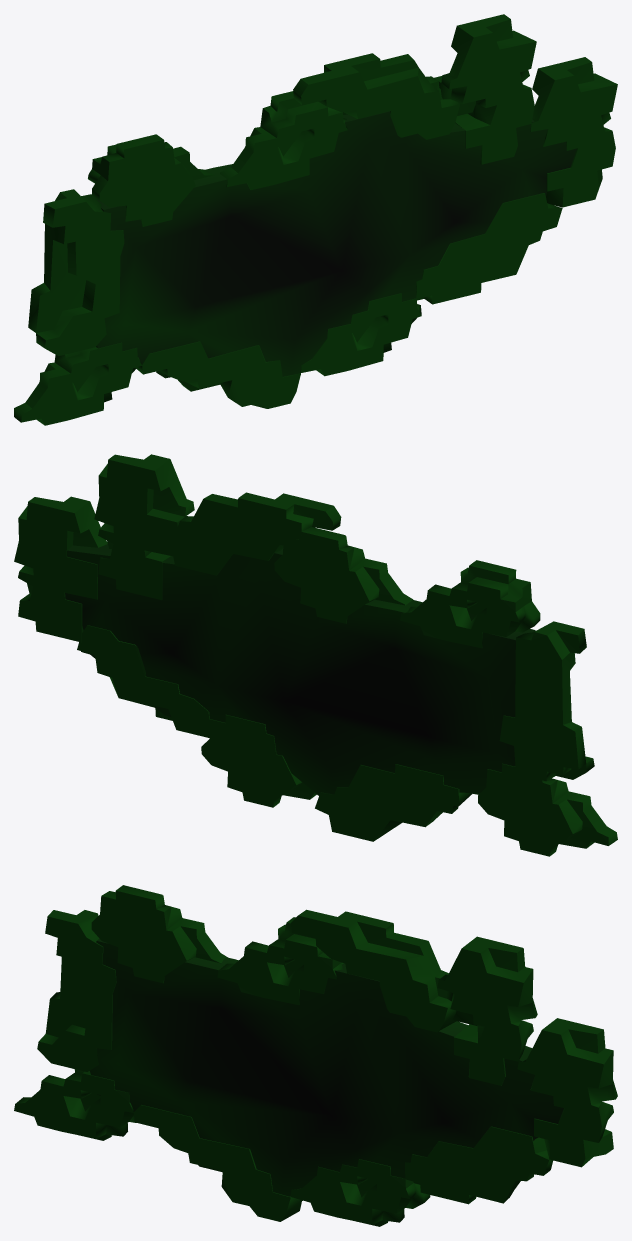
Rendered from DBK_Brick_Prop_Big_E.fbx.
The picture shows the model from 3 angles, top to bottom: view 1: azimuth 30°, elevation 25°; view 2: azimuth 150°, elevation 25°; view 3: azimuth 330°, elevation 25°; orthographic projection.
Parts seen in each view (by area): view 1: DBK_Brick_Prop_Big_E; view 2: DBK_Brick_Prop_Big_E; view 3: DBK_Brick_Prop_Big_E.
Part boxes in pixels (<box>): DBK_Brick_Prop_Big_E: <box>14,14,617,425</box>; DBK_Brick_Prop_Big_E: <box>14,454,617,856</box>; DBK_Brick_Prop_Big_E: <box>14,885,617,1226</box>.
Bounding box in the file's own units: 424 × 217 × 20.05.
